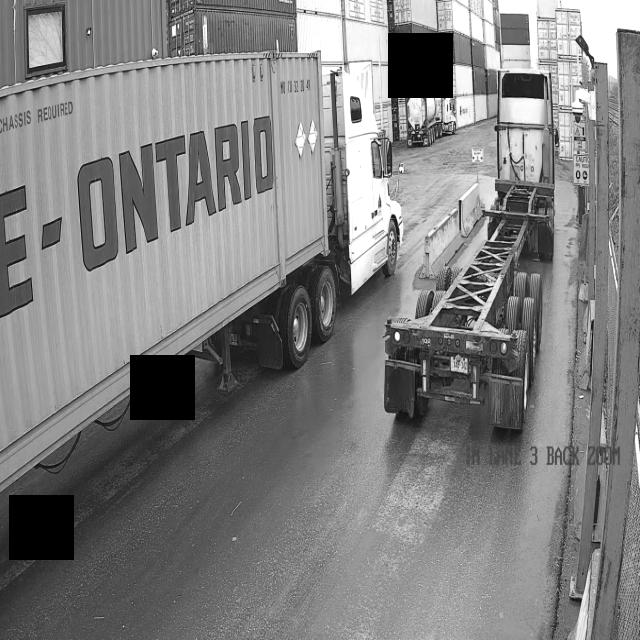truck_with_container: (0, 48, 405, 491)
truck_without_container: (384, 69, 558, 431)
